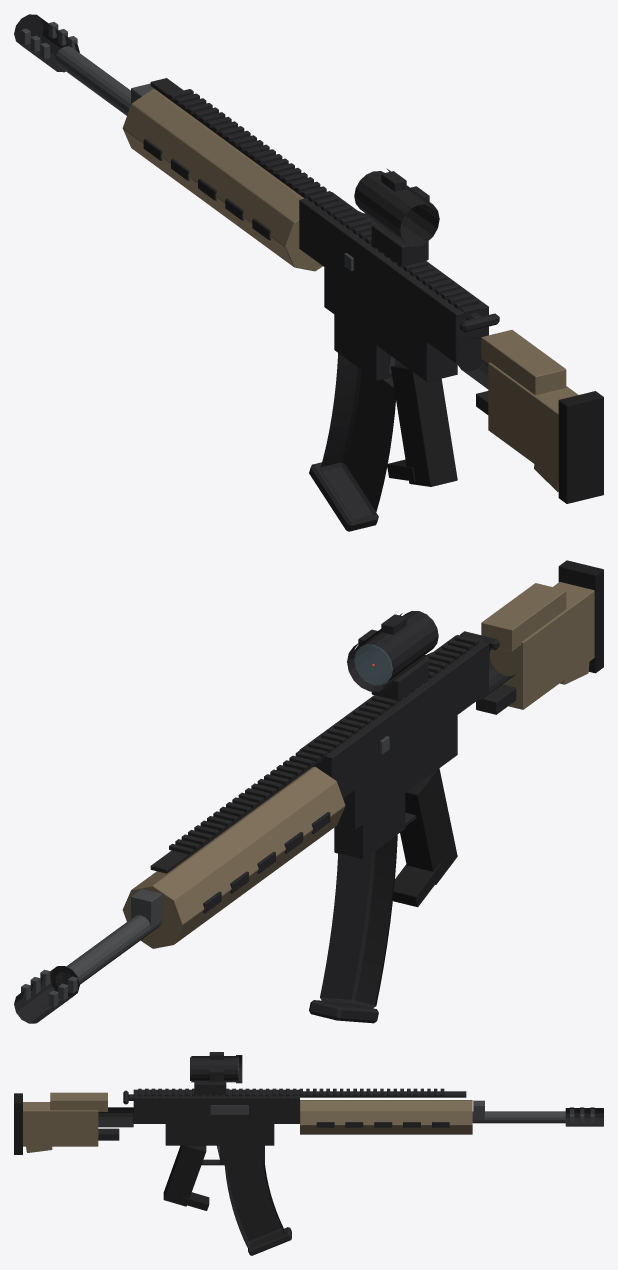
The model's file is rifle_v1.glb.
3 views of the same model, one above another, from view 1: azimuth 30°, elevation 25°; view 2: azimuth 150°, elevation 25°; view 3: azimuth 270°, elevation 25° (orthographic). The views are drawn at different scales.
Parts seen in each view (by area): view 1: Rifle_Body, Rifle_Mag; view 2: Rifle_Body, Rifle_Mag; view 3: Rifle_Body, Rifle_Mag.
Boxes of the visible parts, x1,y1,x2,y2 form: Rifle_Body: [14, 14, 603, 503]; Rifle_Mag: [309, 353, 395, 531]; Rifle_Body: [14, 560, 603, 1023]; Rifle_Mag: [309, 835, 397, 1023]; Rifle_Body: [14, 1052, 603, 1210]; Rifle_Mag: [224, 1164, 291, 1255].
Bounding box in the file's own units: 0.059 × 0.3432 × 0.922.
